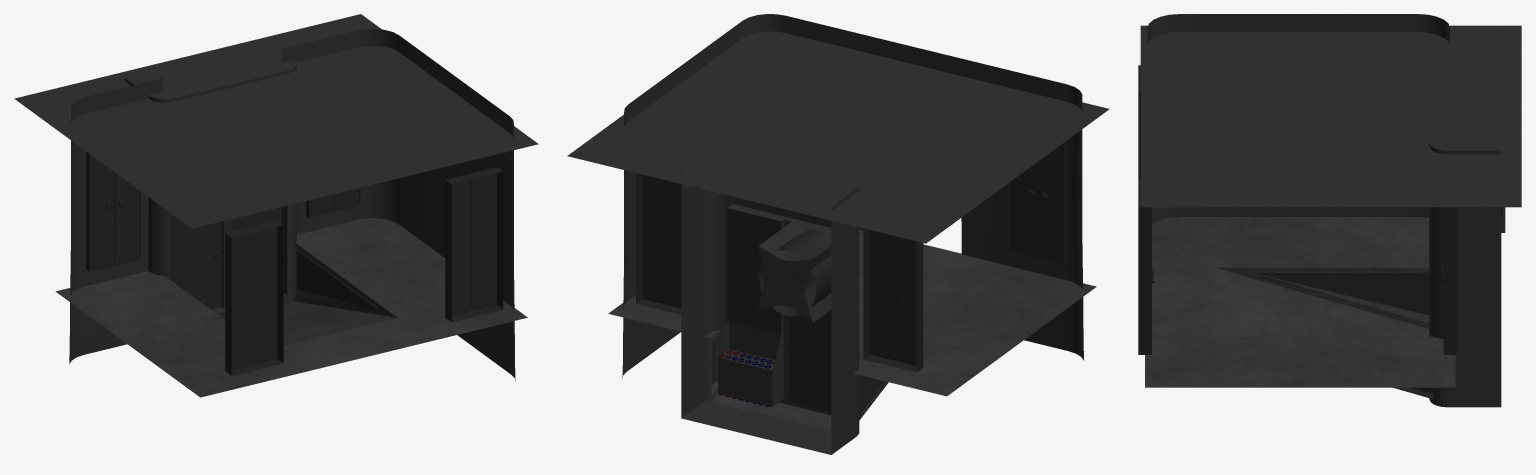
File: RS_main_additionally.fbx
3 views of the same model, side by side, from view 1: azimuth 30°, elevation 25°; view 2: azimuth 150°, elevation 25°; view 3: azimuth 270°, elevation 25° (orthographic). The views are drawn at different scales.
Visible parts, largest first — view 1: RS_mail_additionally; view 2: RS_mail_additionally; view 3: RS_mail_additionally.
Part boxes in pixels (left/top/right/bottom): RS_mail_additionally: left=14, top=14, right=538, bottom=397; RS_mail_additionally: left=567, top=14, right=1109, bottom=454; RS_mail_additionally: left=1138, top=14, right=1521, bottom=407.
Bounding box in the file's own units: 575 × 409 × 513.
